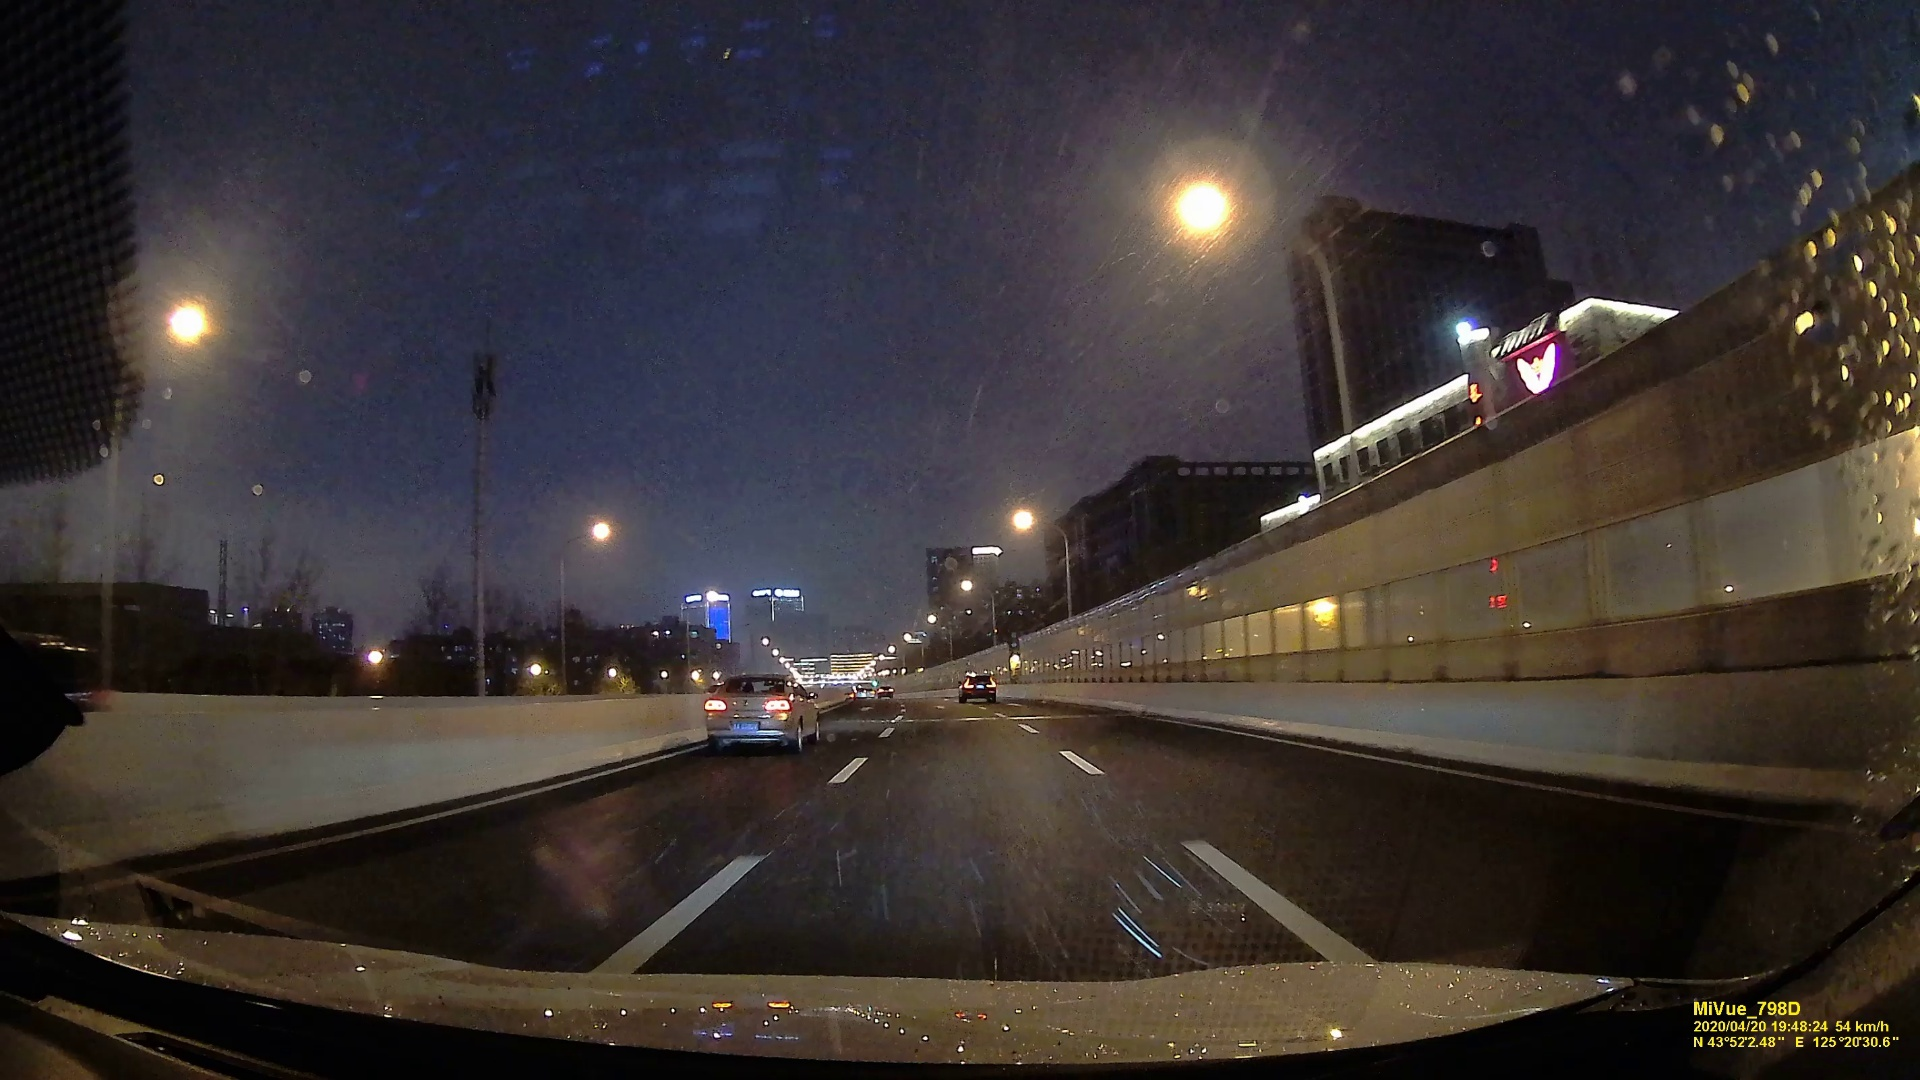vehicle: (698, 673, 820, 749), (956, 673, 997, 702)
